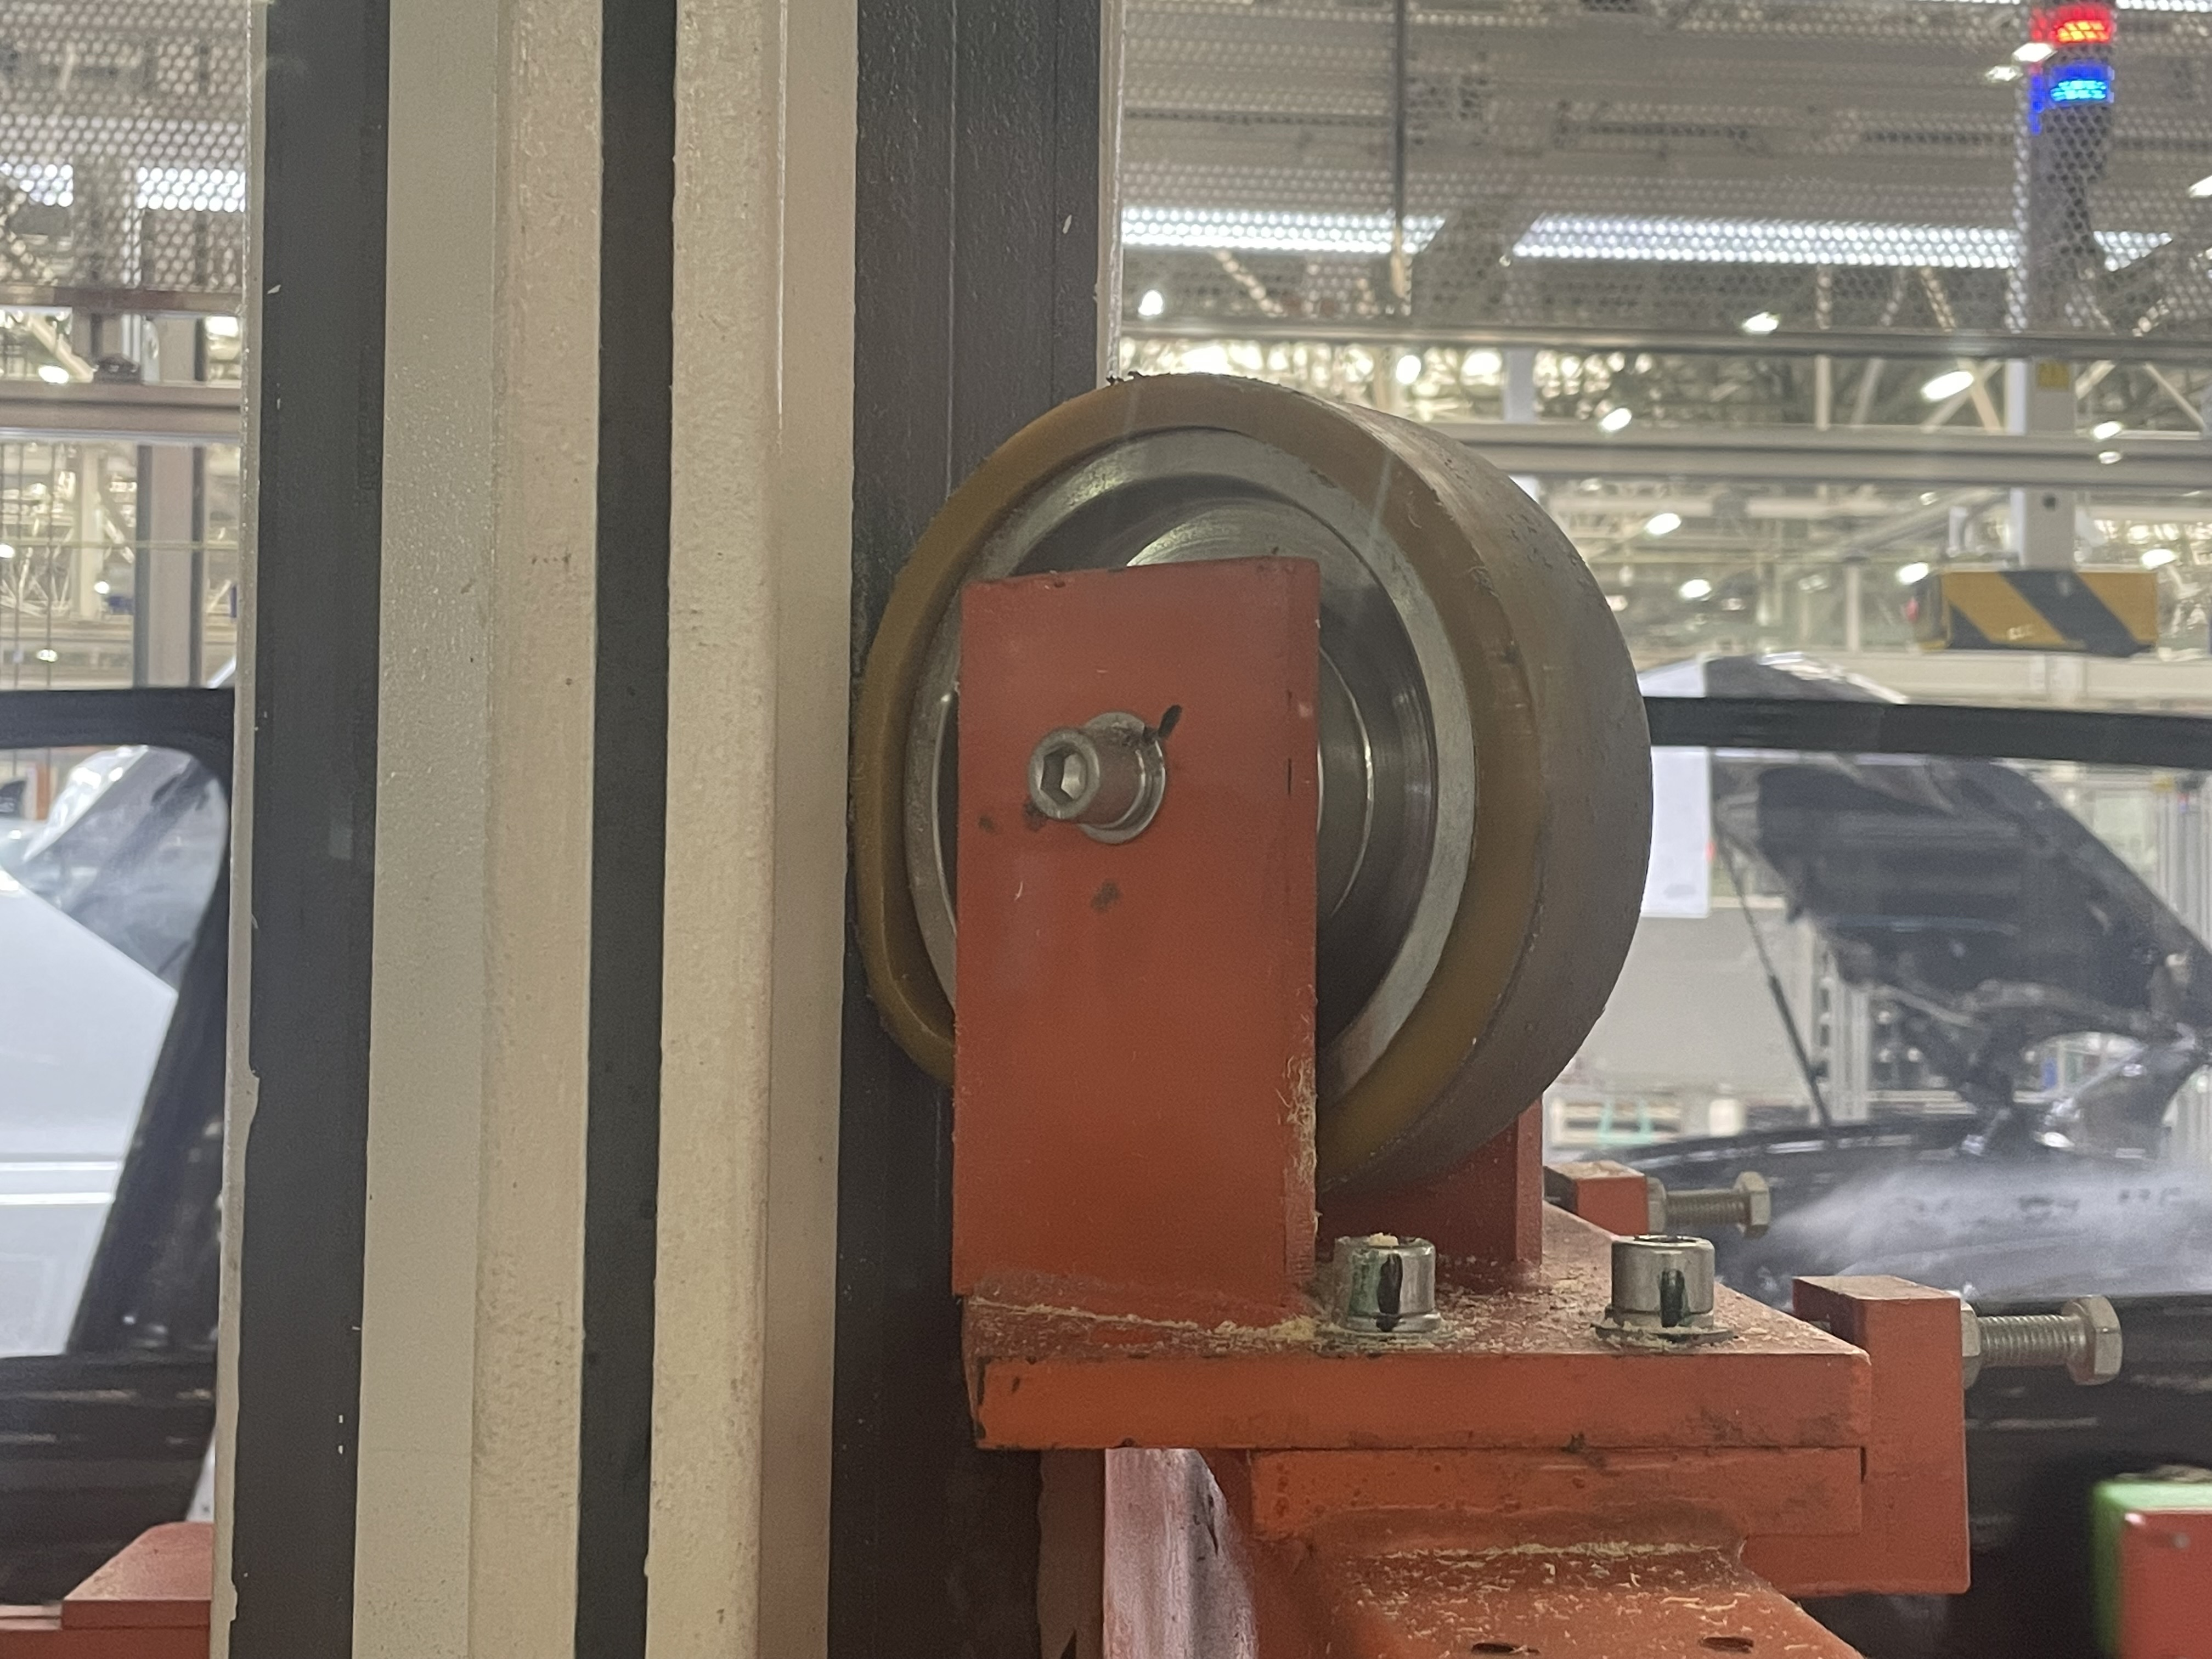bad_wheel: (826, 397, 1134, 1075), (1150, 1274, 1407, 1380)
